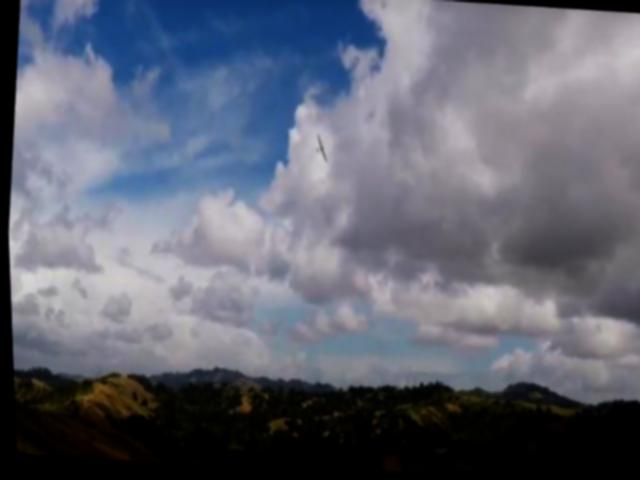iha: (312, 135, 330, 164)
